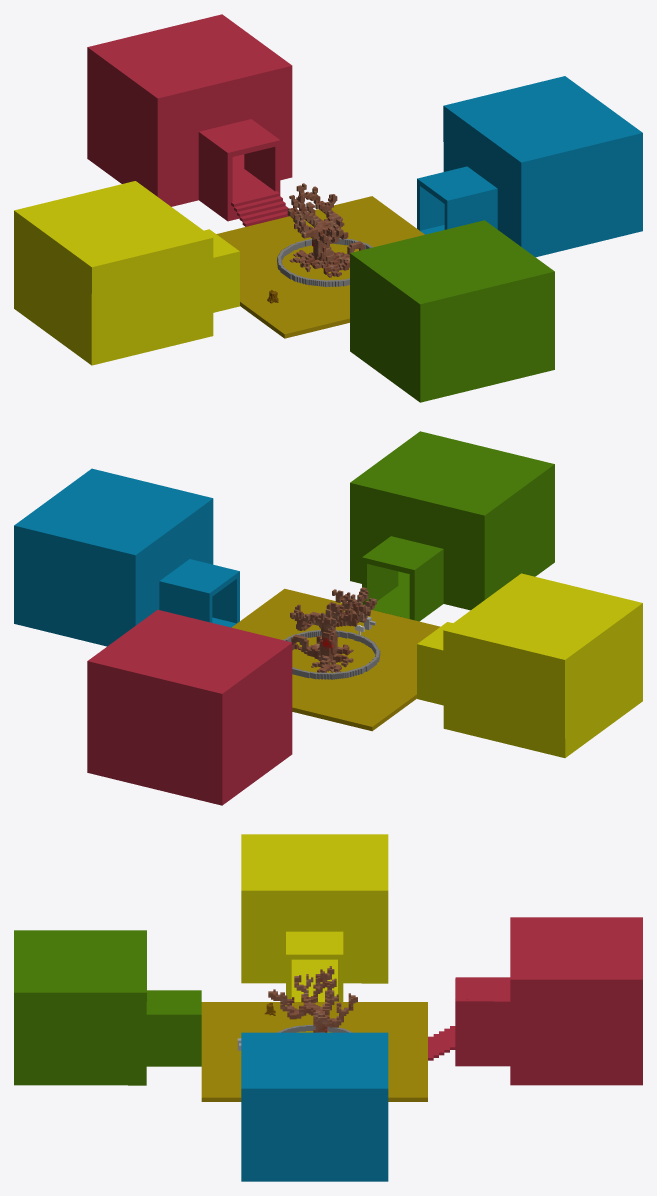
Rendered from debug_room.fbx.
3 renders of one model, top to bottom at view 1: azimuth 30°, elevation 25°; view 2: azimuth 150°, elevation 25°; view 3: azimuth 270°, elevation 25°, orthographic. The views are drawn at different scales.
Visible parts, largest first — view 1: rooom_boss, room1, room_jump, room2, Ground, wood, rock; view 2: rooom_boss, room1, room2, room_jump, Ground, wood, rock; view 3: rooom_boss, room2, room1, room_jump, Ground, wood.
Part boxes in pixels (x1,y1,x2,y2): rooom_boss: (87, 14, 292, 221); room1: (14, 181, 239, 365); room_jump: (417, 76, 642, 257); room2: (350, 220, 554, 402); Ground: (216, 196, 424, 338); wood: (287, 183, 364, 277); rock: (277, 238, 373, 286); rooom_boss: (87, 609, 292, 805); room1: (417, 573, 642, 757); room2: (350, 431, 554, 621); room_jump: (14, 468, 239, 646); Ground: (232, 588, 440, 731); wood: (290, 587, 376, 672); rock: (283, 629, 380, 679); rooom_boss: (455, 917, 642, 1085); room2: (14, 930, 201, 1085); room1: (241, 834, 388, 1001); room_jump: (241, 1032, 388, 1181); Ground: (201, 1002, 427, 1101); wood: (268, 966, 357, 1032).
Size of the model in its own units: 10946 by 2130 by 11446.
